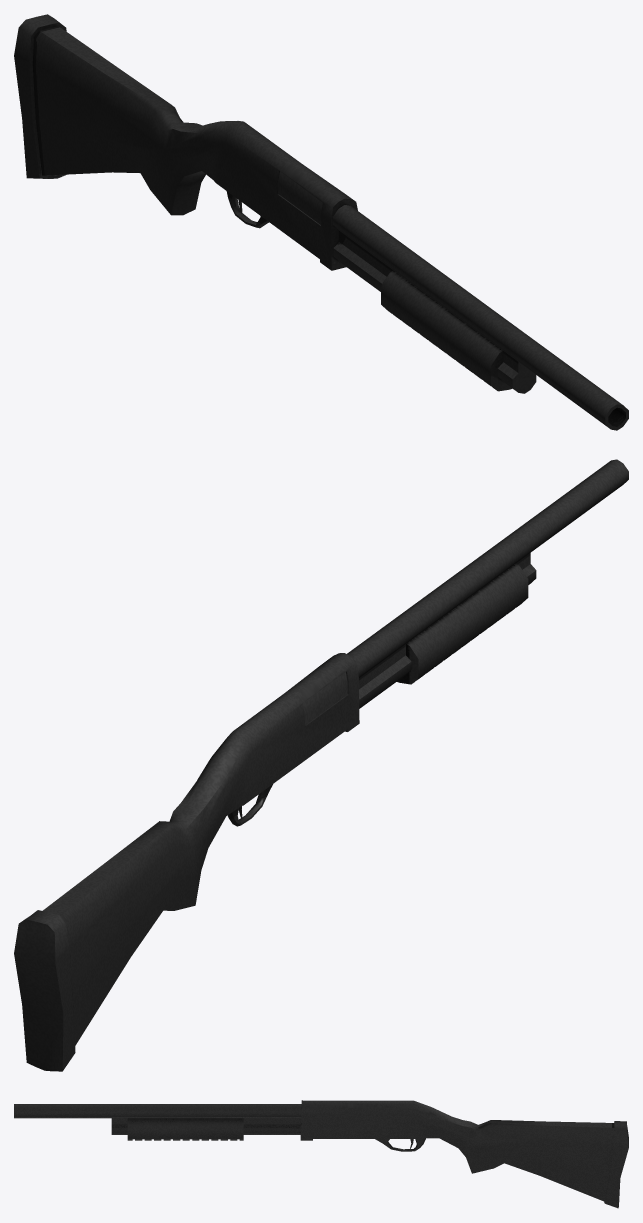
The model's file is Shotgun.fbx.
3 views of the same model, one above another, from view 1: azimuth 30°, elevation 25°; view 2: azimuth 150°, elevation 25°; view 3: azimuth 270°, elevation 25° (orthographic). The views are drawn at different scales.
Parts seen in each view (by area): view 1: WeaponMesh, Slider; view 2: WeaponMesh, Slider; view 3: WeaponMesh, Slider.
Part boxes in pixels (<box>): WeaponMesh: <box>14,14,628,430</box>; Slider: <box>278,171,512,391</box>; WeaponMesh: <box>14,459,628,1071</box>; Slider: <box>302,563,528,725</box>; WeaponMesh: <box>14,1100,628,1208</box>; Slider: <box>127,1118,243,1140</box>.
Bounding box in the file's own units: 2.91 × 13.32 × 70.89.
1 material, 1 textured.
